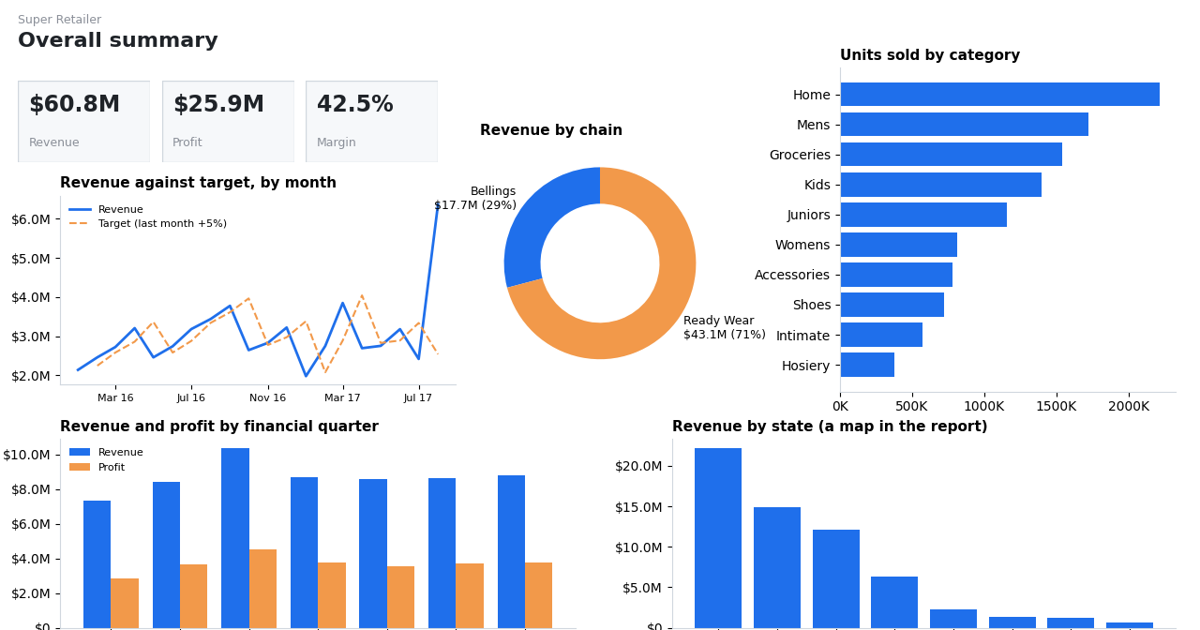

This screenshot's page, from the dashboard's own definition file:
{"tool":"powerbi","page":{"name":"Overall summary","canvas":[1280,720],"ordinal":0},"visuals":[{"type":"kpi","fields":{"TrendLine":["Dates.Date"],"Indicator":["Sum(Sales.Revenue)"],"Goal":["Sales.Target Revenue"]},"box":[0,239.1,325.9,209.9],"z":0},{"type":"lineClusteredColumnComboChart","fields":{"Category":["Dates.FY Qtr"],"Y2":["Sum(Sales.Profit)"],"Y":["Sum(Sales.Revenue)"]},"box":[0,456.1,643.8,263.9],"z":1000},{"type":"donutChart","fields":{"Category":["Sales.Chain"],"Y":["Sum(Sales.Revenue)"]},"box":[337.4,112.5,448.1,336.5],"z":2000},{"type":"filledMap","fields":{"Category":["Regions.State,country"]},"box":[656.2,456.1,623.5,263.9],"z":3000},{"type":"clusteredBarChart","fields":{"Y":["Sum(Sales.Total Units)"],"Category":["Sales.Category"]},"box":[793.5,0,486.2,449],"z":4000},{"type":"card","fields":{"Values":["Sum(Sales.Revenue)"]},"box":[565,0.9,220.5,100.1],"z":5000},{"type":"card","fields":{"Values":["Sum(Sales.Profit)"]},"box":[337.4,0,221.4,101.8],"z":6000},{"type":"slicer","fields":{"Values":["Dates.Financial Year"]},"box":[129.3,0,196.6,104.5],"z":7000},{"type":"slicer","fields":{"Values":["Regions.State"]},"box":[0,0,119.6,231.1],"z":8000},{"type":"card","fields":{"Values":["Sales.Margin %"]},"box":[134.6,118.7,191.3,112.5],"z":9000},{"type":"actionButton","box":[1246.9,679.3,32.8,40.7],"z":9001}]}

Visuals, with their boxes on the page's 1280x720 design canvas (x1, y1, x2, y2). These are canvas units, not pixel positions in the 1200x630 screenshot, which may show the page scaled, cropped or inside an application window:
kpi - Dates.Date x Sum(Sales.Revenue): (x1=0, y1=239, x2=326, y2=449)
lineClusteredColumnComboChart - Dates.FY Qtr x Sum(Sales.Profit): (x1=0, y1=456, x2=644, y2=720)
donutChart - Sales.Chain x Sum(Sales.Revenue): (x1=337, y1=112, x2=786, y2=449)
filledMap - Regions.State,country: (x1=656, y1=456, x2=1280, y2=720)
clusteredBarChart - Sum(Sales.Total Units) x Sales.Category: (x1=794, y1=0, x2=1280, y2=449)
card - Sum(Sales.Revenue): (x1=565, y1=1, x2=786, y2=101)
card - Sum(Sales.Profit): (x1=337, y1=0, x2=559, y2=102)
slicer - Dates.Financial Year: (x1=129, y1=0, x2=326, y2=104)
slicer - Regions.State: (x1=0, y1=0, x2=120, y2=231)
card - Sales.Margin %: (x1=135, y1=119, x2=326, y2=231)
actionButton: (x1=1247, y1=679, x2=1280, y2=720)
